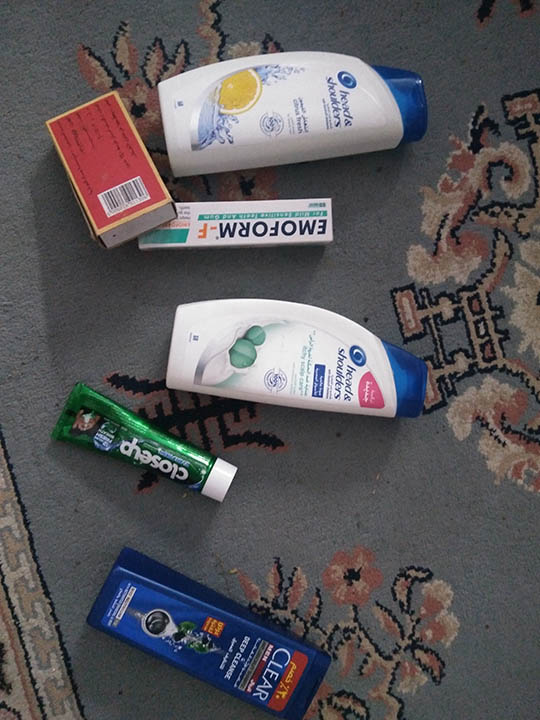Shampoo-Clear 4.7$: (79, 548, 333, 716)
Toothpaste-Closeup 3.04$: (60, 389, 235, 507)
Toothpaste-F 1.5$: (130, 197, 333, 252)
match-sticks .90$: (34, 93, 173, 257)
shampoo-Lemon 3.5$: (151, 54, 446, 168)
shampoo-green 4.5$: (169, 301, 422, 423)
